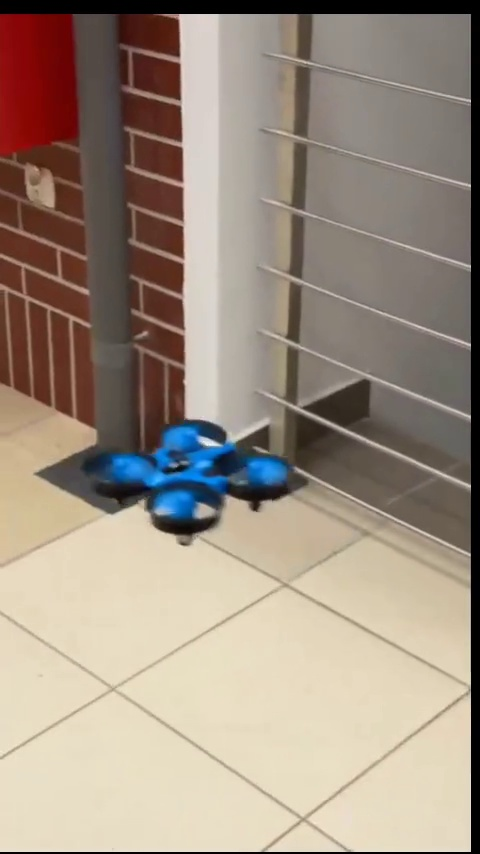drone: (74, 417, 298, 553)
